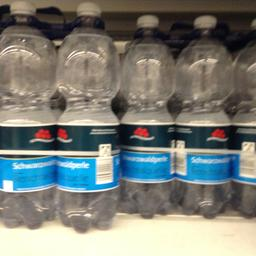water: (50, 0, 120, 235), (0, 0, 53, 229), (119, 8, 175, 218), (174, 12, 231, 218)
